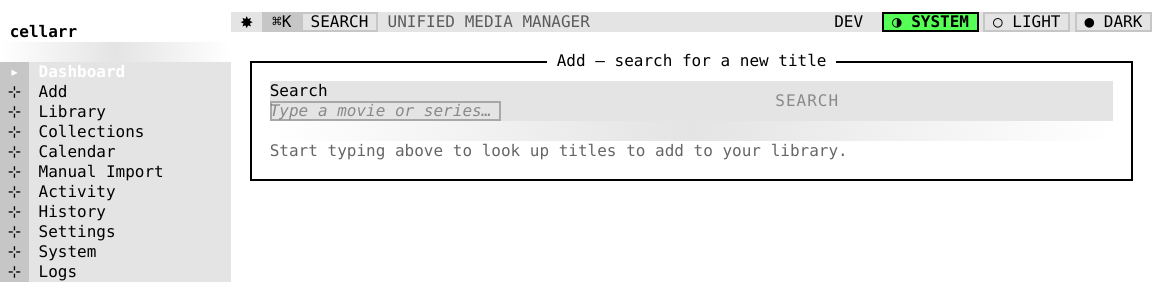
Scenario: Add / search-new screen › ranks the exact-title hit first within a section
Type "blade" into the field named "add-search" at (385, 111), box [270,101,501,121]
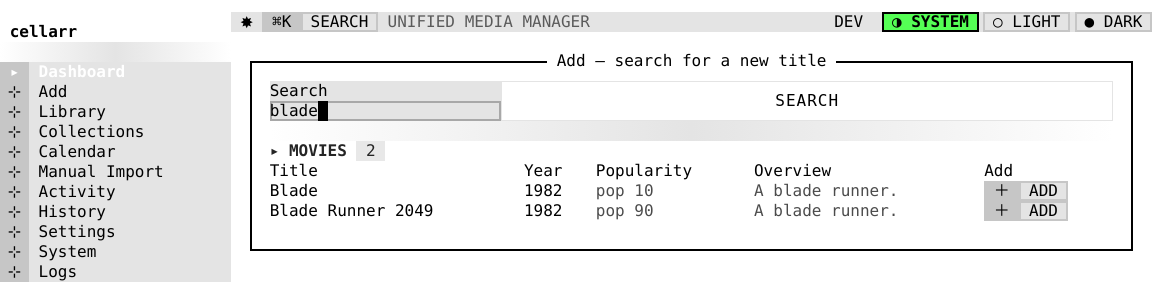
Check: the text "Blade" is shown, box [270,181,514,201]
Check: the text "pop 90" is shown, box [596,201,654,220]
